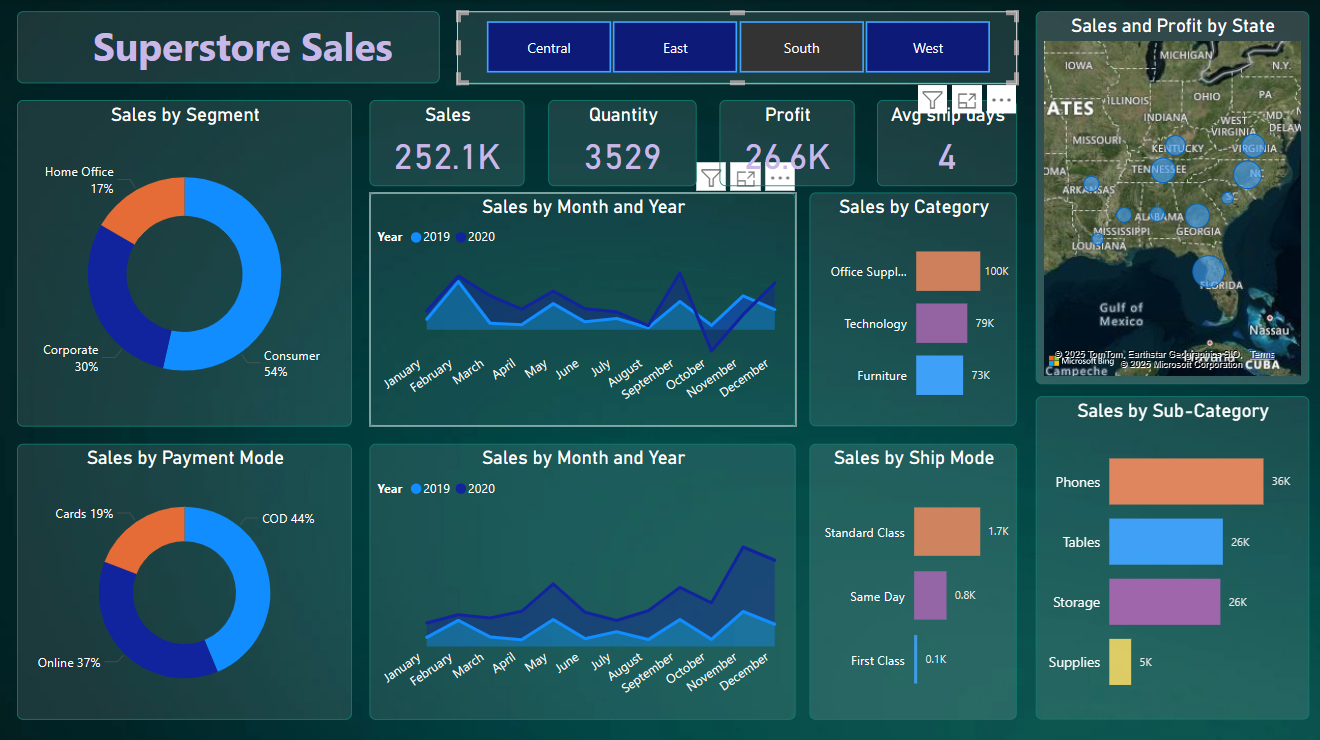

The page's visual inventory and layout, read from the dashboard file:
{"tool":"powerbi","page":{"name":"Dashboard","canvas":[1280,720],"ordinal":0},"visuals":[{"type":"map","title":" Sales and Profit by State","fields":{"Size":["CountNonNull(SuperStore_Sales_Dataset.Sales)"],"Category":["SuperStore_Sales_Dataset.State"]},"box":[1002,11.3,263.6,360],"z":0},{"type":"clusteredBarChart","title":" Sales by Ship Mode","fields":{"Y":["Sum(SuperStore_Sales_Dataset.Sales)"],"Category":["SuperStore_Sales_Dataset.Ship Mode"]},"box":[784.2,428.3,200.3,266.6],"z":1000},{"type":"clusteredBarChart","title":"Sales by Category","fields":{"Y":["Sum(SuperStore_Sales_Dataset.Sales)"],"Category":["SuperStore_Sales_Dataset.Category"]},"box":[784.2,185.8,200.3,225.6],"z":2000},{"type":"clusteredBarChart","title":"Sales by Sub-Category","fields":{"Y":["Sum(SuperStore_Sales_Dataset.Sales)"],"Category":["SuperStore_Sales_Dataset.Sub-Category"]},"box":[1002,382.7,263.6,311.8],"z":3000},{"type":"stackedAreaChart","title":" Sales by Month and Year","fields":{"Category":["SuperStore_Sales_Dataset.Order Date.Variation.Date Hierarchy.Month"],"Y":["Sum(SuperStore_Sales_Dataset.Profit)"],"Series":["SuperStore_Sales_Dataset.Order Date.Variation.Date Hierarchy.Year"]},"box":[359.5,185.8,411.4,225.6],"z":4000},{"type":"stackedAreaChart","title":" Sales by Month and Year","fields":{"Y":["Sum(SuperStore_Sales_Dataset.Sales)"],"Category":["SuperStore_Sales_Dataset.Order Date.Variation.Date Hierarchy.Month"],"Series":["SuperStore_Sales_Dataset.Order Date.Variation.Date Hierarchy.Year"]},"box":[359.5,428.3,411.4,266.6],"z":5000},{"type":"donutChart","title":"Sales by Segment","fields":{"Category":["SuperStore_Sales_Dataset.Segment"],"Y":["Sum(SuperStore_Sales_Dataset.Sales)"]},"box":[19.3,96.5,323.3,314.9],"z":6000},{"type":"donutChart","title":" Sales by Payment Mode","fields":{"Y":["Sum(SuperStore_Sales_Dataset.Sales)"],"Category":["SuperStore_Sales_Dataset.Payment Mode"]},"box":[19.3,428.3,323.3,266.6],"z":7000},{"type":"slicer","fields":{"Values":["SuperStore_Sales_Dataset.Region"]},"box":[443.6,11.3,541.4,69.4],"z":9000},{"type":"textbox","box":[19.8,11.3,408.2,69.4],"z":10000},{"type":"card","title":"Sales","fields":{"Values":["Sum(SuperStore_Sales_Dataset.Sales)"]},"box":[359.5,96.5,149.6,83.2],"z":11000},{"type":"card","title":"Quantity","fields":{"Values":["Sum(SuperStore_Sales_Dataset.Quantity)"]},"box":[532,96.5,143.6,83.2],"z":12000},{"type":"card","title":"Profit","fields":{"Values":["Sum(SuperStore_Sales_Dataset.Profit)"]},"box":[697.3,96.5,130.3,83.2],"z":13000},{"type":"card","title":"Avg ship days","fields":{"Values":["Avg(SuperStore_Sales_Dataset.AvgDelivery)"]},"box":[849.3,96.5,135.1,83.2],"z":14000}]}

Visuals, with their boxes in screenshot pixels (x1, y1, x2, y2), scaled from the page's 1280x720 canvas onto the 1320x740 screenshot:
" Sales and Profit by State" map: Rect(1033, 12, 1305, 382)
" Sales by Ship Mode" clusteredBarChart: Rect(809, 440, 1015, 714)
"Sales by Category" clusteredBarChart: Rect(809, 191, 1015, 423)
"Sales by Sub-Category" clusteredBarChart: Rect(1033, 393, 1305, 714)
" Sales by Month and Year" stackedAreaChart: Rect(371, 191, 795, 423)
" Sales by Month and Year" stackedAreaChart: Rect(371, 440, 795, 714)
"Sales by Segment" donutChart: Rect(20, 99, 353, 423)
" Sales by Payment Mode" donutChart: Rect(20, 440, 353, 714)
slicer - SuperStore_Sales_Dataset.Region: Rect(457, 12, 1016, 83)
textbox: Rect(20, 12, 441, 83)
"Sales" card: Rect(371, 99, 525, 185)
"Quantity" card: Rect(549, 99, 697, 185)
"Profit" card: Rect(719, 99, 853, 185)
"Avg ship days" card: Rect(876, 99, 1015, 185)
